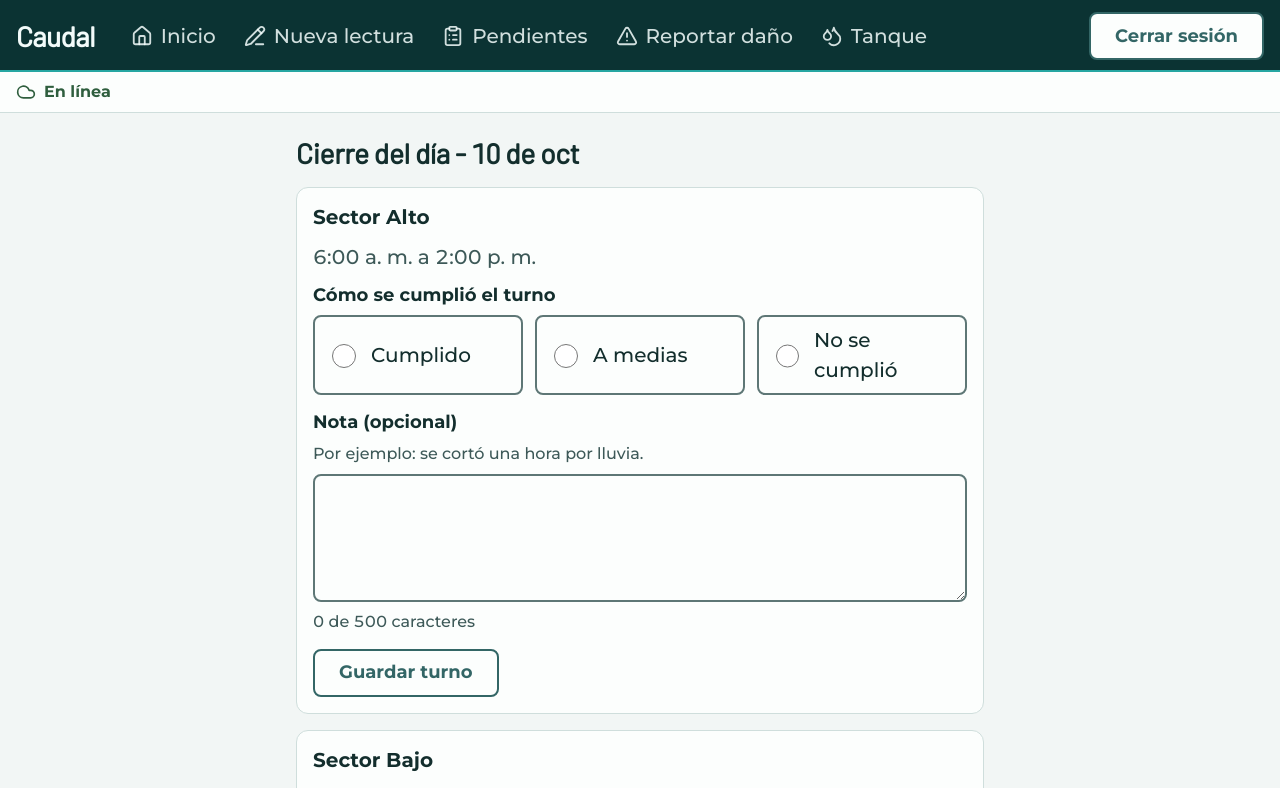
DayClosurePage (S10, operator) › registers a shift that was completed as planned, with no times
Click the radio button labelled "Cumplido" at (344, 356), box top-left (332, 344), bottom-right (356, 368)
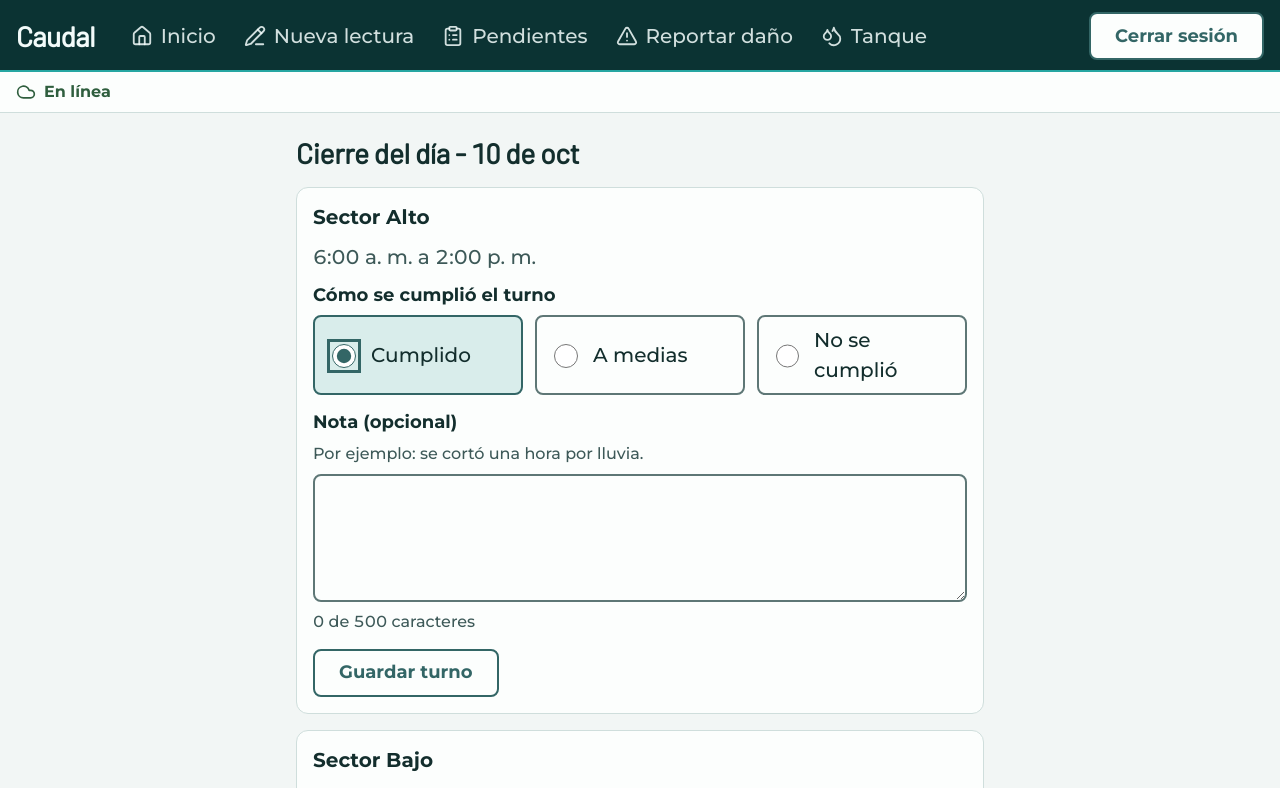
Click the button "Guardar turno" at (406, 673), box top-left (313, 649), bottom-right (498, 697)
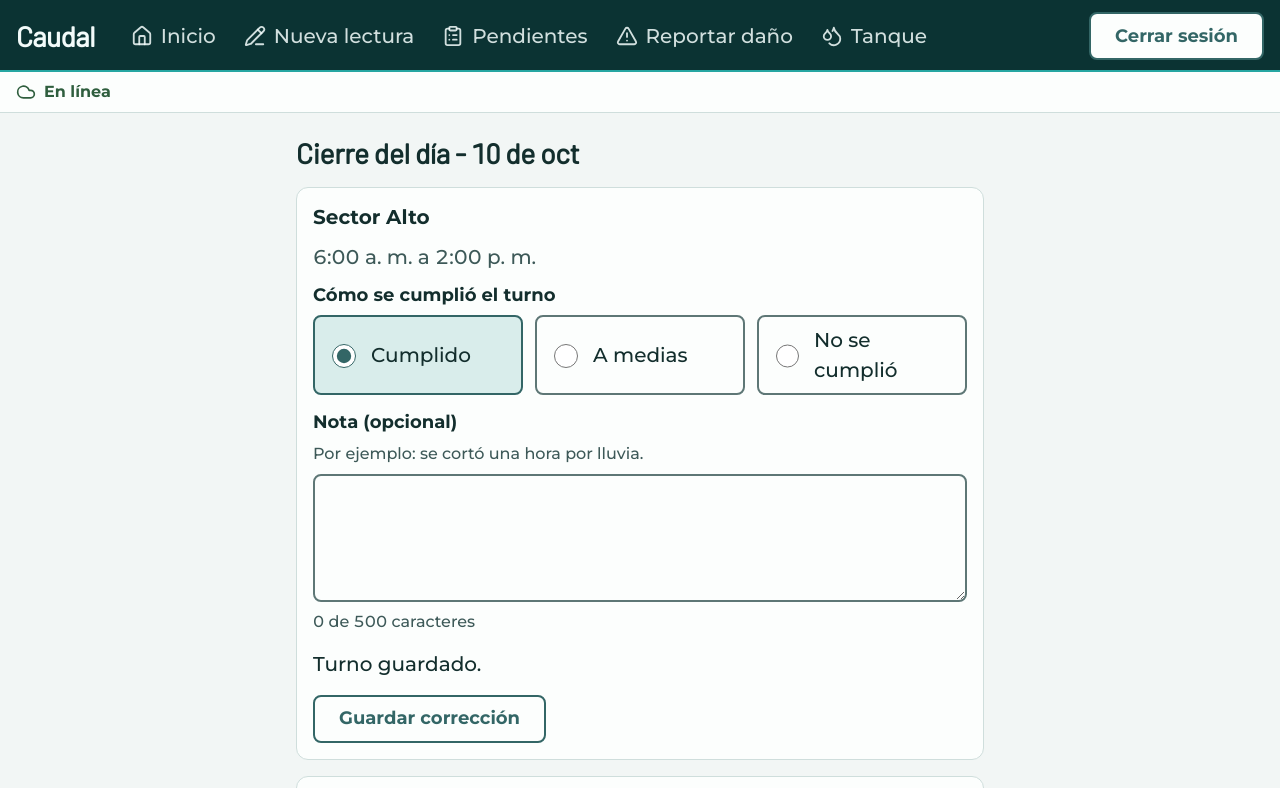
expect the text "Turno guardado." is shown: met, box top-left (313, 652), bottom-right (481, 676)
